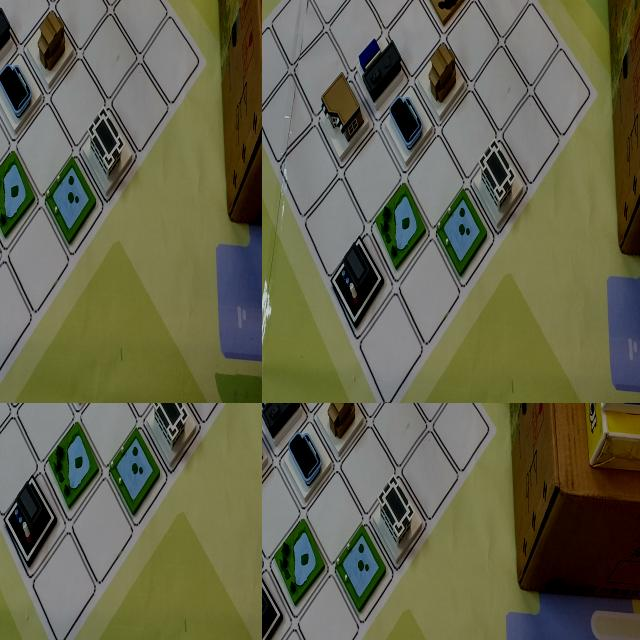bus_stop: (360, 205, 415, 307), (66, 403, 135, 460), (16, 0, 76, 49), (262, 403, 305, 446)
factory: (133, 449, 205, 577), (262, 560, 290, 640), (0, 0, 25, 43), (288, 0, 320, 25)
fish_pool: (336, 518, 386, 612), (223, 403, 262, 459), (0, 16, 26, 96), (262, 0, 294, 28)
forest: (52, 472, 125, 596), (0, 230, 34, 345), (474, 0, 519, 41), (262, 403, 288, 442)
gogo_shop: (278, 429, 332, 510), (60, 403, 128, 461), (0, 17, 28, 109), (396, 0, 447, 49)
research_build: (374, 464, 426, 554), (140, 403, 206, 460), (0, 47, 29, 156), (287, 0, 329, 32)
restaurant: (392, 64, 448, 161), (140, 403, 212, 464), (0, 42, 29, 149), (262, 403, 286, 493)
silicate_rock: (92, 540, 165, 640), (0, 125, 53, 219), (318, 403, 369, 438), (540, 0, 583, 36)
volunteer_center: (0, 447, 38, 568), (315, 403, 369, 459), (0, 0, 27, 48), (317, 0, 351, 34)
wet_land: (342, 65, 388, 147), (0, 403, 53, 463), (357, 611, 410, 640), (0, 0, 29, 30)
